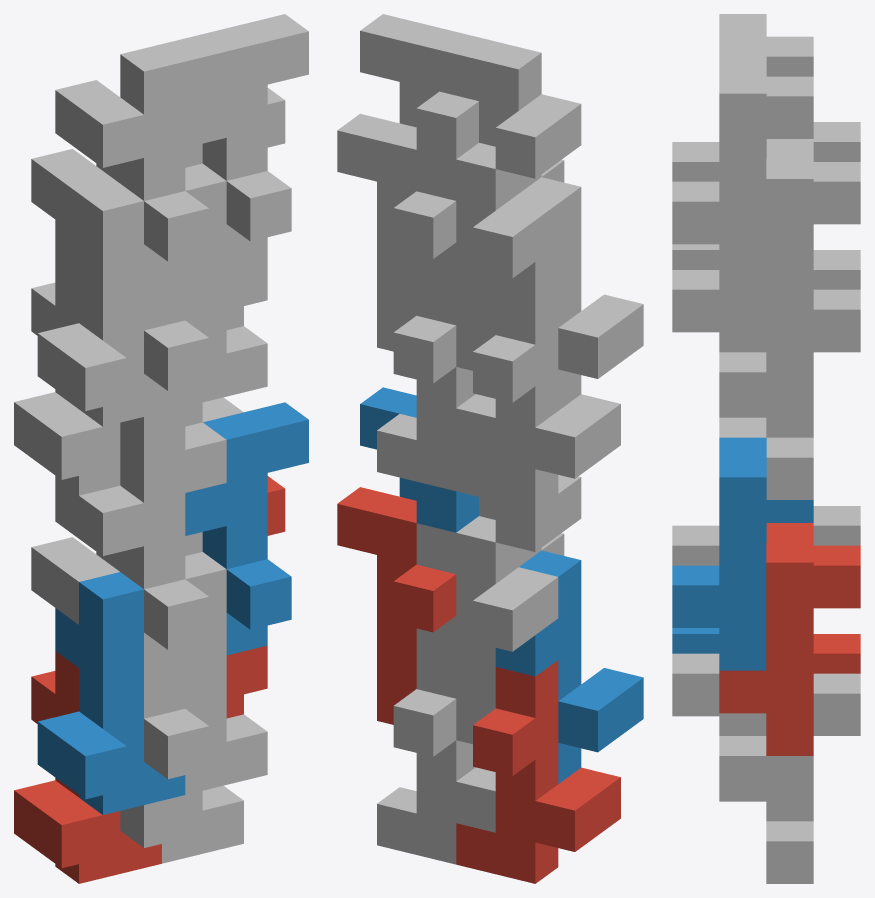
The model's file is tiling.obj.
3 renders of one model, left to right at view 1: azimuth 30°, elevation 25°; view 2: azimuth 150°, elevation 25°; view 3: azimuth 270°, elevation 25°, orthographic. The views are drawn at different scales.
Parts seen in each view (by area): view 1: copy_2_domain_4, copy_1_domain_2, copy_1_domain_4, copy_2_domain_2, copy_2_domain_8, copy_2_domain_6, copy_1_domain_8, copy_1_domain_6, copy_1_domain_1, copy_1_domain_3, copy_1_domain_5, copy_2_domain_1 (+4 smaller); view 2: copy_1_domain_1, copy_1_domain_3, copy_2_domain_1, copy_2_domain_3, copy_1_domain_5, copy_1_domain_7, copy_2_domain_5, copy_2_domain_7, copy_2_domain_4, copy_1_domain_4, copy_1_domain_2, copy_2_domain_8 (+4 smaller); view 3: copy_2_domain_8, copy_2_domain_5, copy_2_domain_7, copy_2_domain_6, copy_1_domain_5, copy_1_domain_7, copy_1_domain_6, copy_1_domain_8, copy_2_domain_4, copy_2_domain_2, copy_1_domain_1, copy_1_domain_3 (+4 smaller).
Boxes of the visible parts, box(x1,y1,x2,y2) form: copy_2_domain_4: box(55, 34, 226, 287); copy_1_domain_2: box(37, 572, 185, 814); copy_1_domain_4: box(37, 183, 185, 426); copy_2_domain_2: box(55, 422, 226, 675); copy_2_domain_8: box(185, 14, 308, 266); copy_2_domain_6: box(185, 402, 308, 655); copy_1_domain_8: box(144, 163, 267, 406); copy_1_domain_6: box(144, 552, 267, 794); copy_1_domain_1: box(14, 651, 161, 883); copy_1_domain_3: box(14, 263, 120, 495); copy_1_domain_5: box(120, 785, 243, 863); copy_2_domain_1: box(31, 532, 202, 718); copy_1_domain_1: box(456, 660, 620, 883); copy_1_domain_3: box(456, 287, 620, 510); copy_2_domain_1: box(416, 516, 558, 744); copy_2_domain_3: box(416, 143, 558, 370); copy_1_domain_5: box(377, 647, 495, 864); copy_1_domain_7: box(377, 274, 495, 490); copy_2_domain_5: box(337, 487, 456, 724); copy_2_domain_7: box(337, 113, 456, 351); copy_2_domain_4: box(439, 33, 581, 193); copy_1_domain_4: box(495, 177, 643, 410); copy_1_domain_2: box(495, 550, 643, 783); copy_2_domain_8: box(360, 14, 478, 159); copy_2_domain_8: box(672, 53, 813, 286); copy_2_domain_5: box(719, 523, 860, 755); copy_2_domain_7: box(719, 139, 860, 372); copy_2_domain_6: box(672, 437, 813, 670); copy_1_domain_5: box(719, 673, 860, 883); copy_1_domain_7: box(719, 289, 860, 499); copy_1_domain_6: box(672, 653, 766, 798); copy_1_domain_8: box(672, 270, 766, 414); copy_2_domain_4: box(672, 14, 813, 181); copy_2_domain_2: box(672, 417, 766, 565); copy_1_domain_1: box(813, 634, 860, 673); copy_1_domain_3: box(813, 250, 860, 289).
Bounding box in the file's own units: 6 × 19 × 4.
